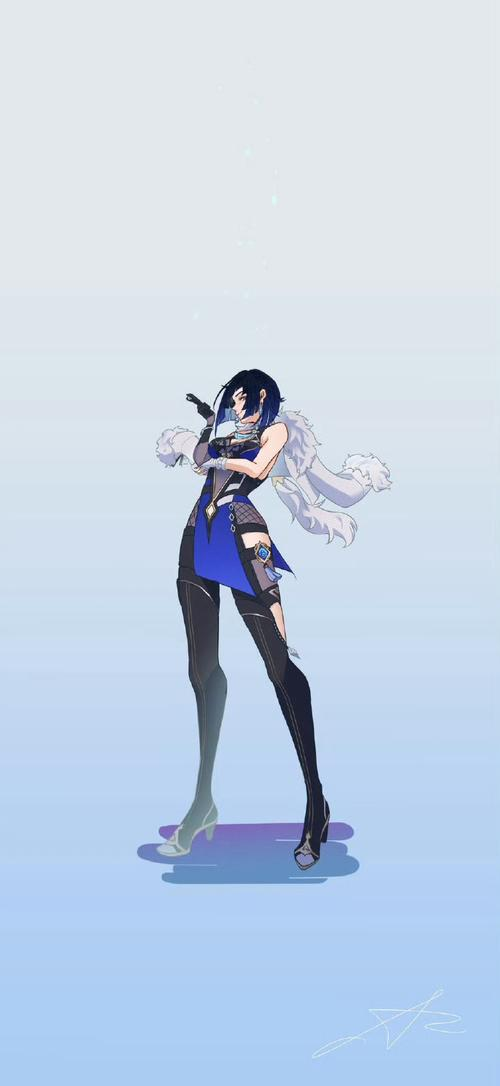夜兰: (130, 354, 371, 888)
